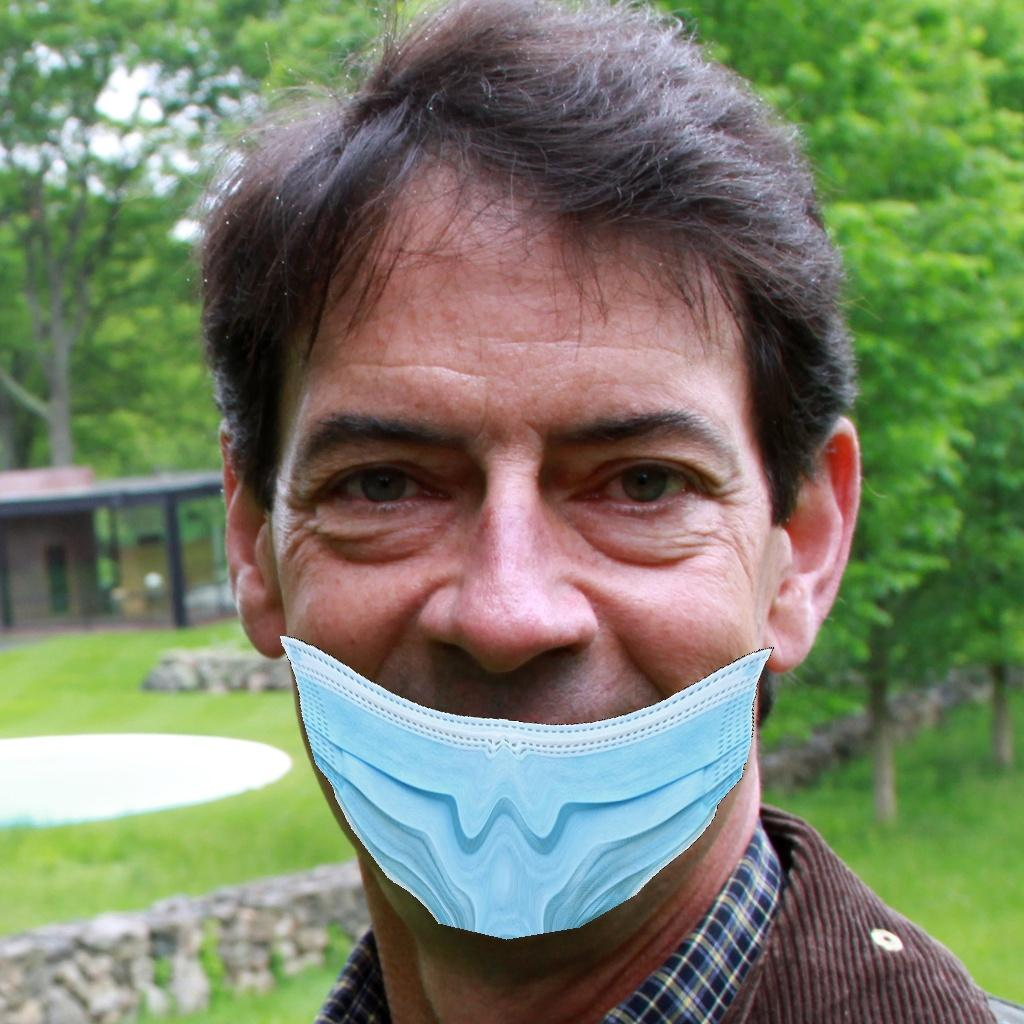Máscara Incorreta: (269, 224, 764, 920)
